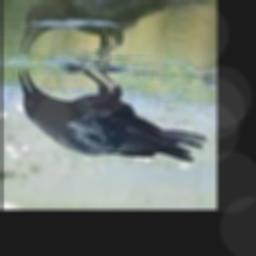Crow: (18, 64, 207, 163)
